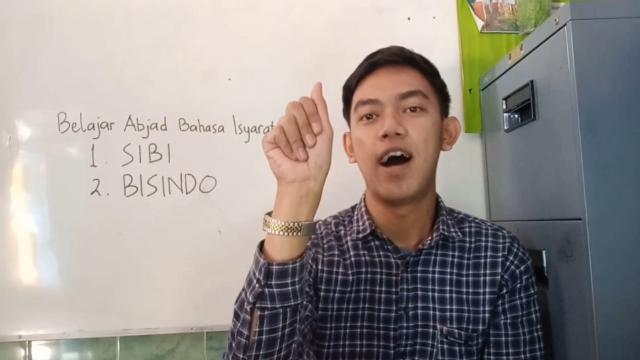A: (262, 80, 338, 196)
